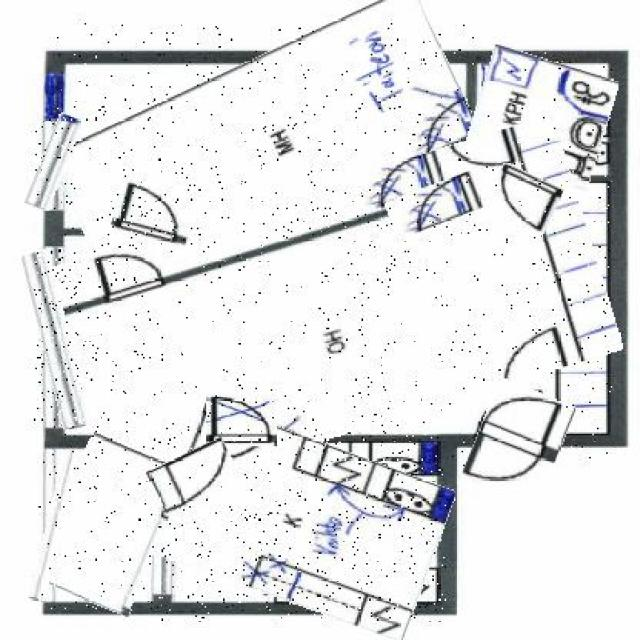door: (466, 383, 566, 508), (111, 184, 194, 253), (151, 445, 238, 506), (386, 177, 483, 231), (486, 169, 560, 231), (206, 394, 277, 446)
window: (34, 249, 80, 429), (38, 449, 72, 603), (34, 114, 75, 211)
zone: (55, 151, 612, 466), (57, 23, 474, 268), (162, 422, 446, 622), (46, 440, 176, 609), (471, 52, 612, 183)
